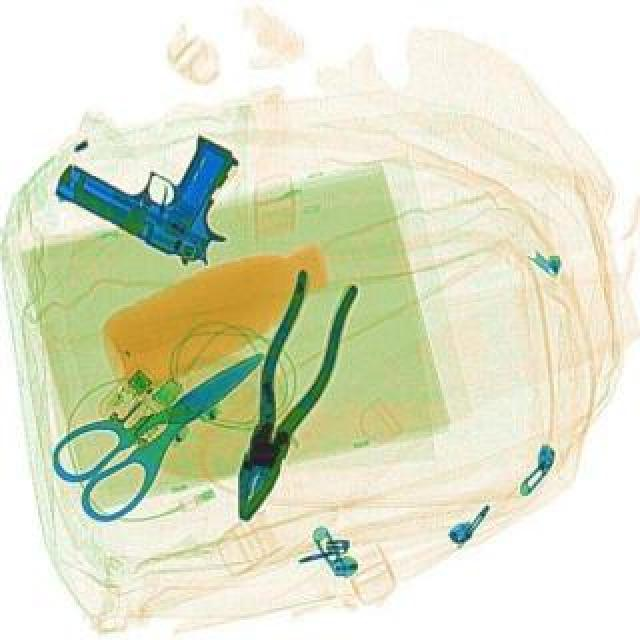gun: (52, 90, 272, 274)
pliers: (42, 318, 300, 530)
wrench: (212, 266, 368, 530)
